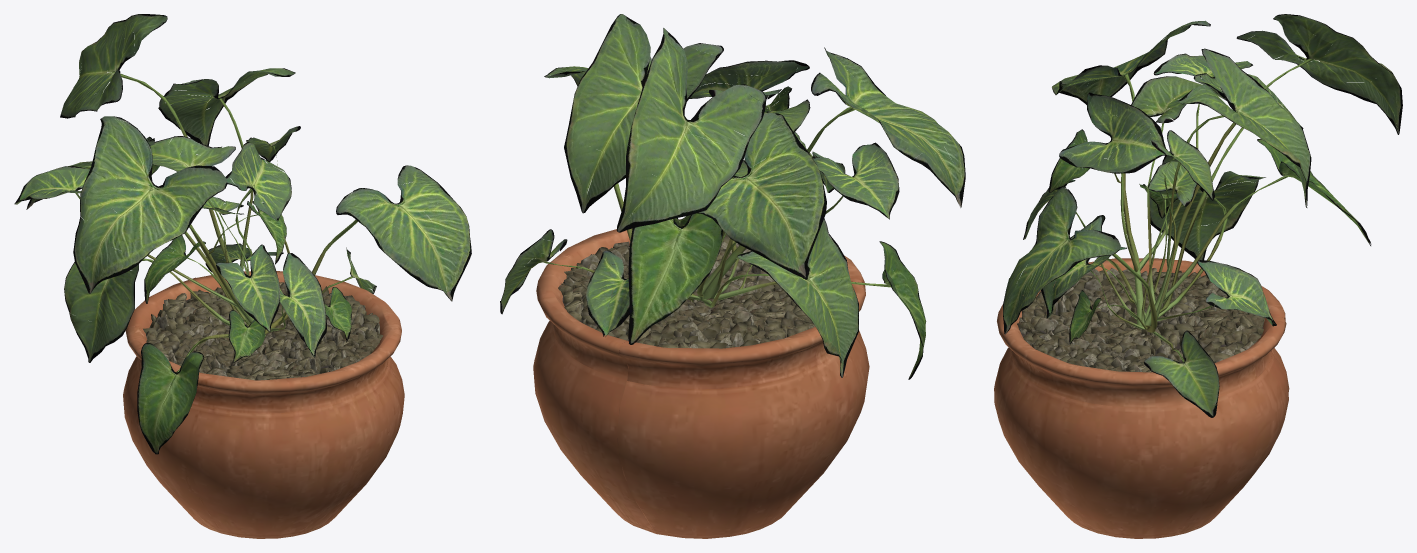
Rendered from potted_plant_02.glb.
3 views of the same model, side by side, from view 1: azimuth 30°, elevation 25°; view 2: azimuth 150°, elevation 25°; view 3: azimuth 270°, elevation 25° (orthographic). The views are drawn at different scales.
Visible parts, largest first — view 1: potted_plant_02_leaves, potted_plant_02_pot; view 2: potted_plant_02_leaves, potted_plant_02_pot; view 3: potted_plant_02_pot, potted_plant_02_leaves.
Boxes of the visible parts, left/top/right/bottom form: potted_plant_02_leaves: left=14, top=14, right=471, bottom=454; potted_plant_02_pot: left=123, top=271, right=404, bottom=538; potted_plant_02_leaves: left=500, top=14, right=965, bottom=379; potted_plant_02_pot: left=533, top=219, right=869, bottom=538; potted_plant_02_pot: left=994, top=258, right=1289, bottom=538; potted_plant_02_leaves: left=1003, top=14, right=1402, bottom=417.
Bounding box in the file's own units: 0.7008 × 0.8416 × 0.657.
2 materials, 2 textured.
